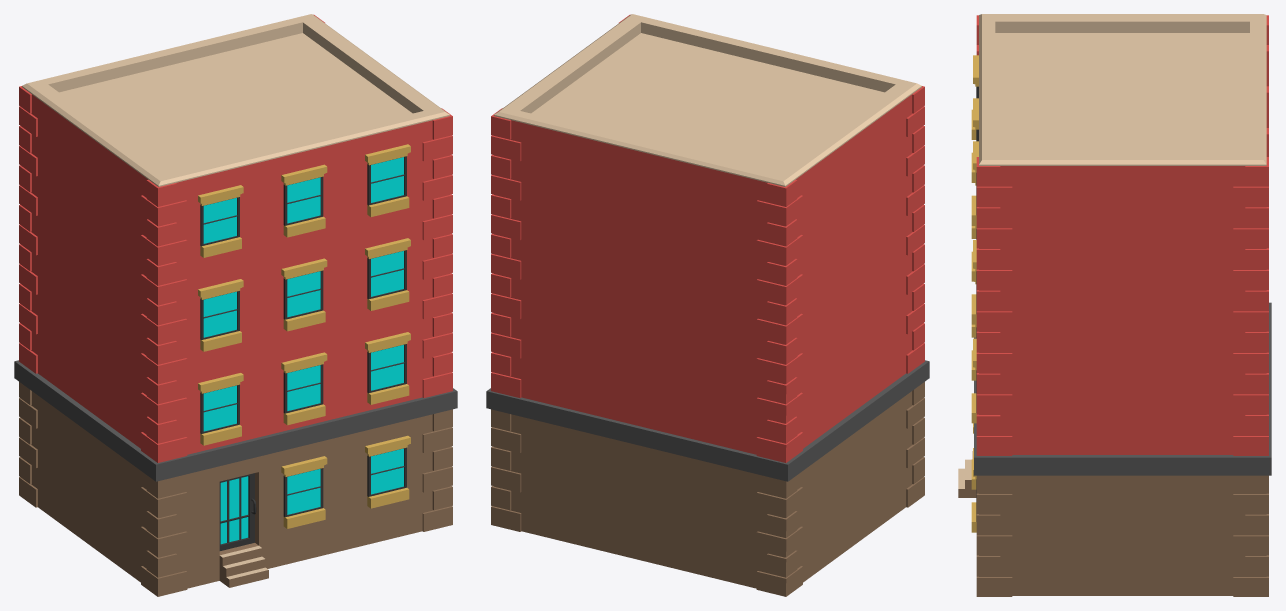
File: building_08.fbx
3 views of the same model, side by side, from view 1: azimuth 30°, elevation 25°; view 2: azimuth 150°, elevation 25°; view 3: azimuth 270°, elevation 25° (orthographic). The views are drawn at different scales.
Visible parts, largest first — view 1: Plane.028; view 2: Plane.028; view 3: Plane.028.
Boxes of the visible parts, bbox=[...] form: Plane.028: bbox=[14, 14, 457, 596]; Plane.028: bbox=[486, 14, 929, 596]; Plane.028: bbox=[958, 14, 1271, 596].
Size of the model in its own units: 1394 by 1822 by 1192.
